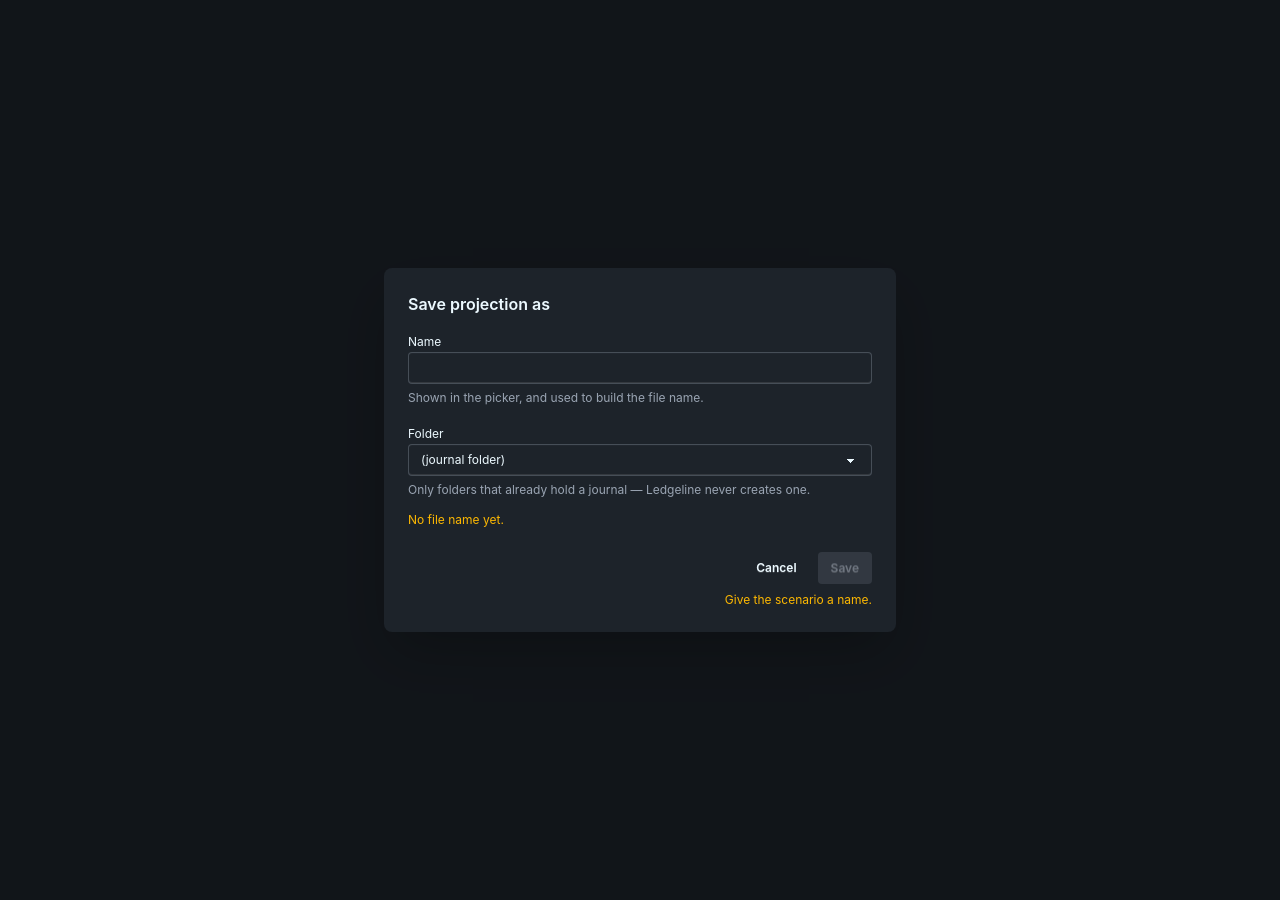
Test: COMPONENT SaveScenarioDialog › flags a name that is already taken before the round trip
Type "Series A" into the field with test id "projection-save-name" at (640, 368), box [408, 352, 872, 384]
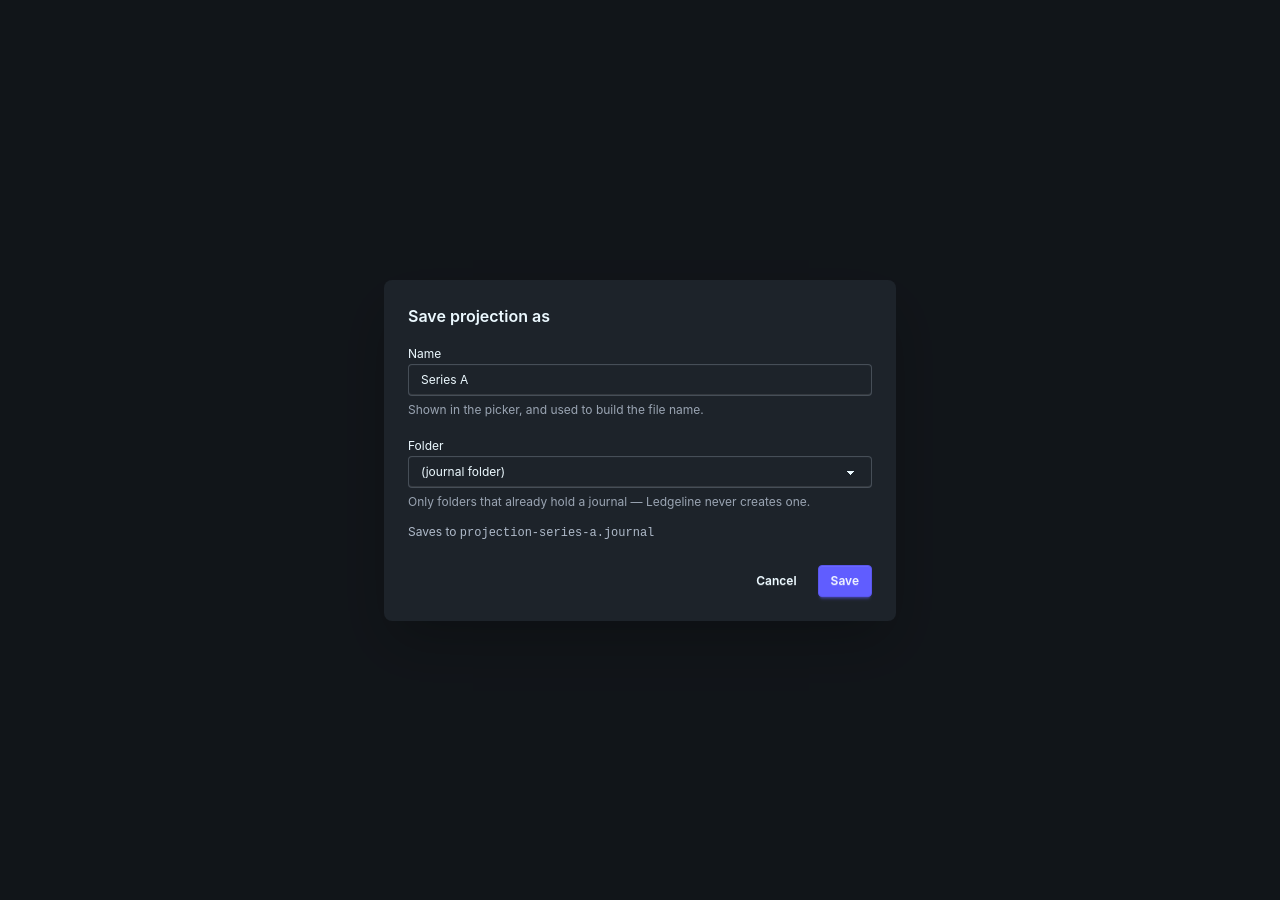
Select "plans" in the dropdown with test id "projection-save-dir" at (640, 472), box [408, 456, 872, 488]
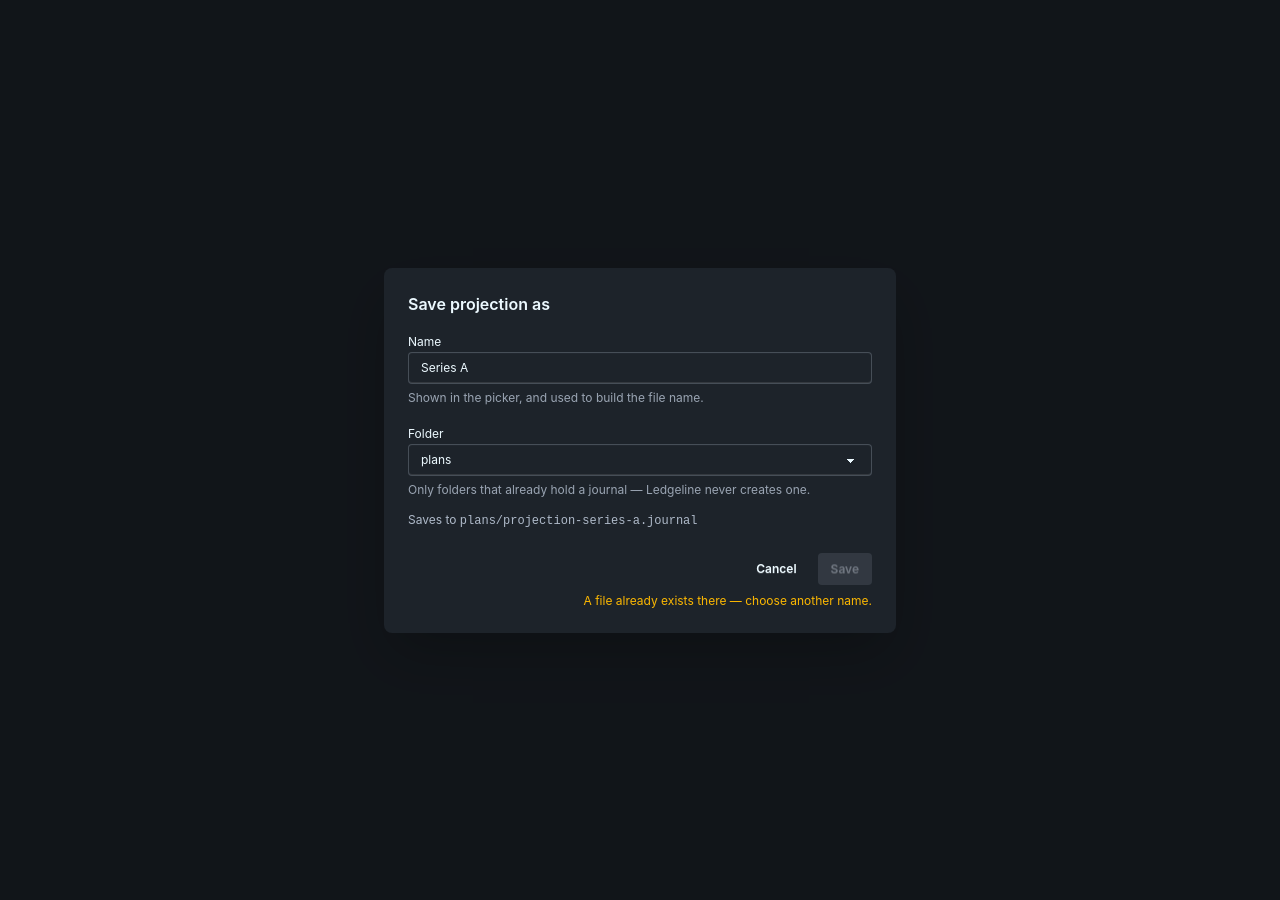
Result: the message with test id "projection-save-blocker" shows "already exists" at [584, 592, 872, 608]
Result: the button with test id "projection-save-submit" is disabled at [818, 552, 872, 584]
